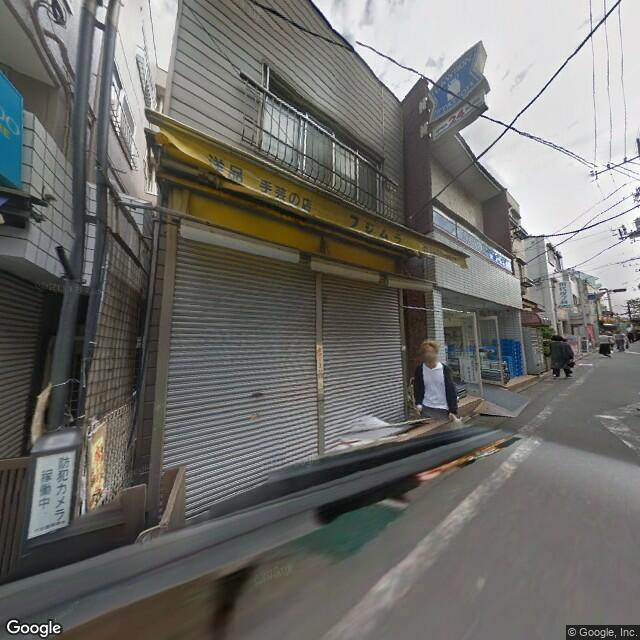lawson: (427, 38, 485, 118)
